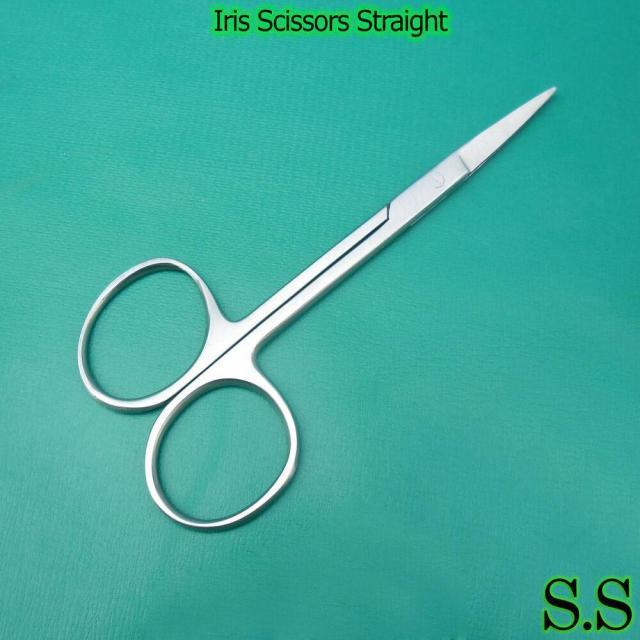Iris: (71, 82, 563, 538)
